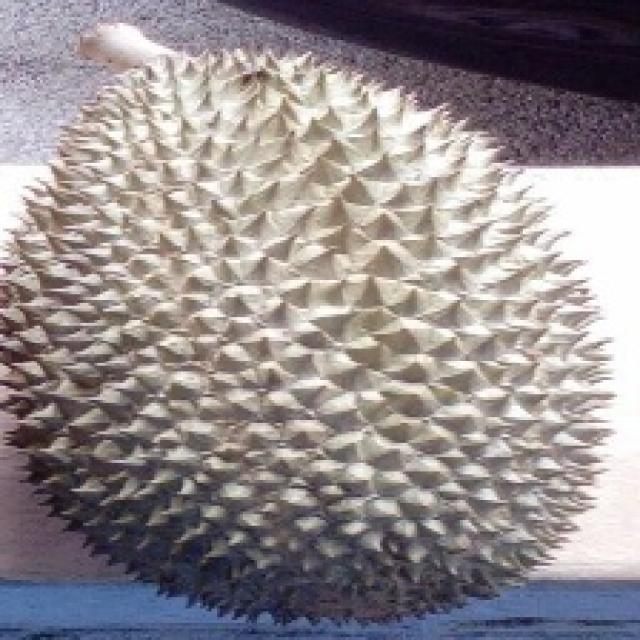d2: (33, 23, 600, 580)
